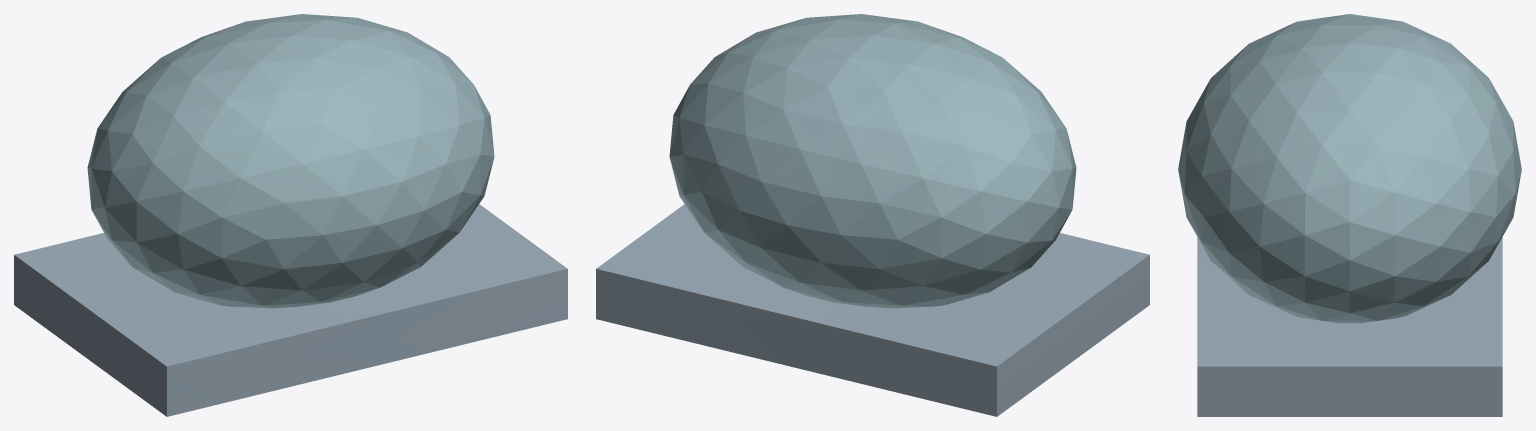
Rendered from stadium-07.glb.
The picture shows the model from 3 angles, left to right: view 1: azimuth 30°, elevation 25°; view 2: azimuth 150°, elevation 25°; view 3: azimuth 270°, elevation 25°; orthographic projection.
Visible parts, largest first — view 1: world; view 2: world; view 3: world.
Part boxes in pixels (<box>): world: <box>14,14,567,416</box>; world: <box>596,14,1149,416</box>; world: <box>1178,14,1521,416</box>.
Size of the model in its own units: 1.67 by 1.1 by 1.24.
